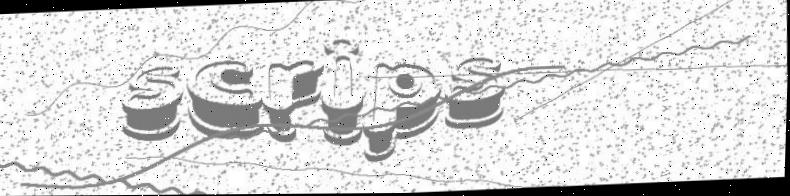c: (183, 59, 267, 142)
i: (318, 38, 368, 148)
p: (358, 59, 445, 165)
r: (261, 59, 326, 145)
s: (120, 64, 187, 143), (443, 56, 509, 130)
